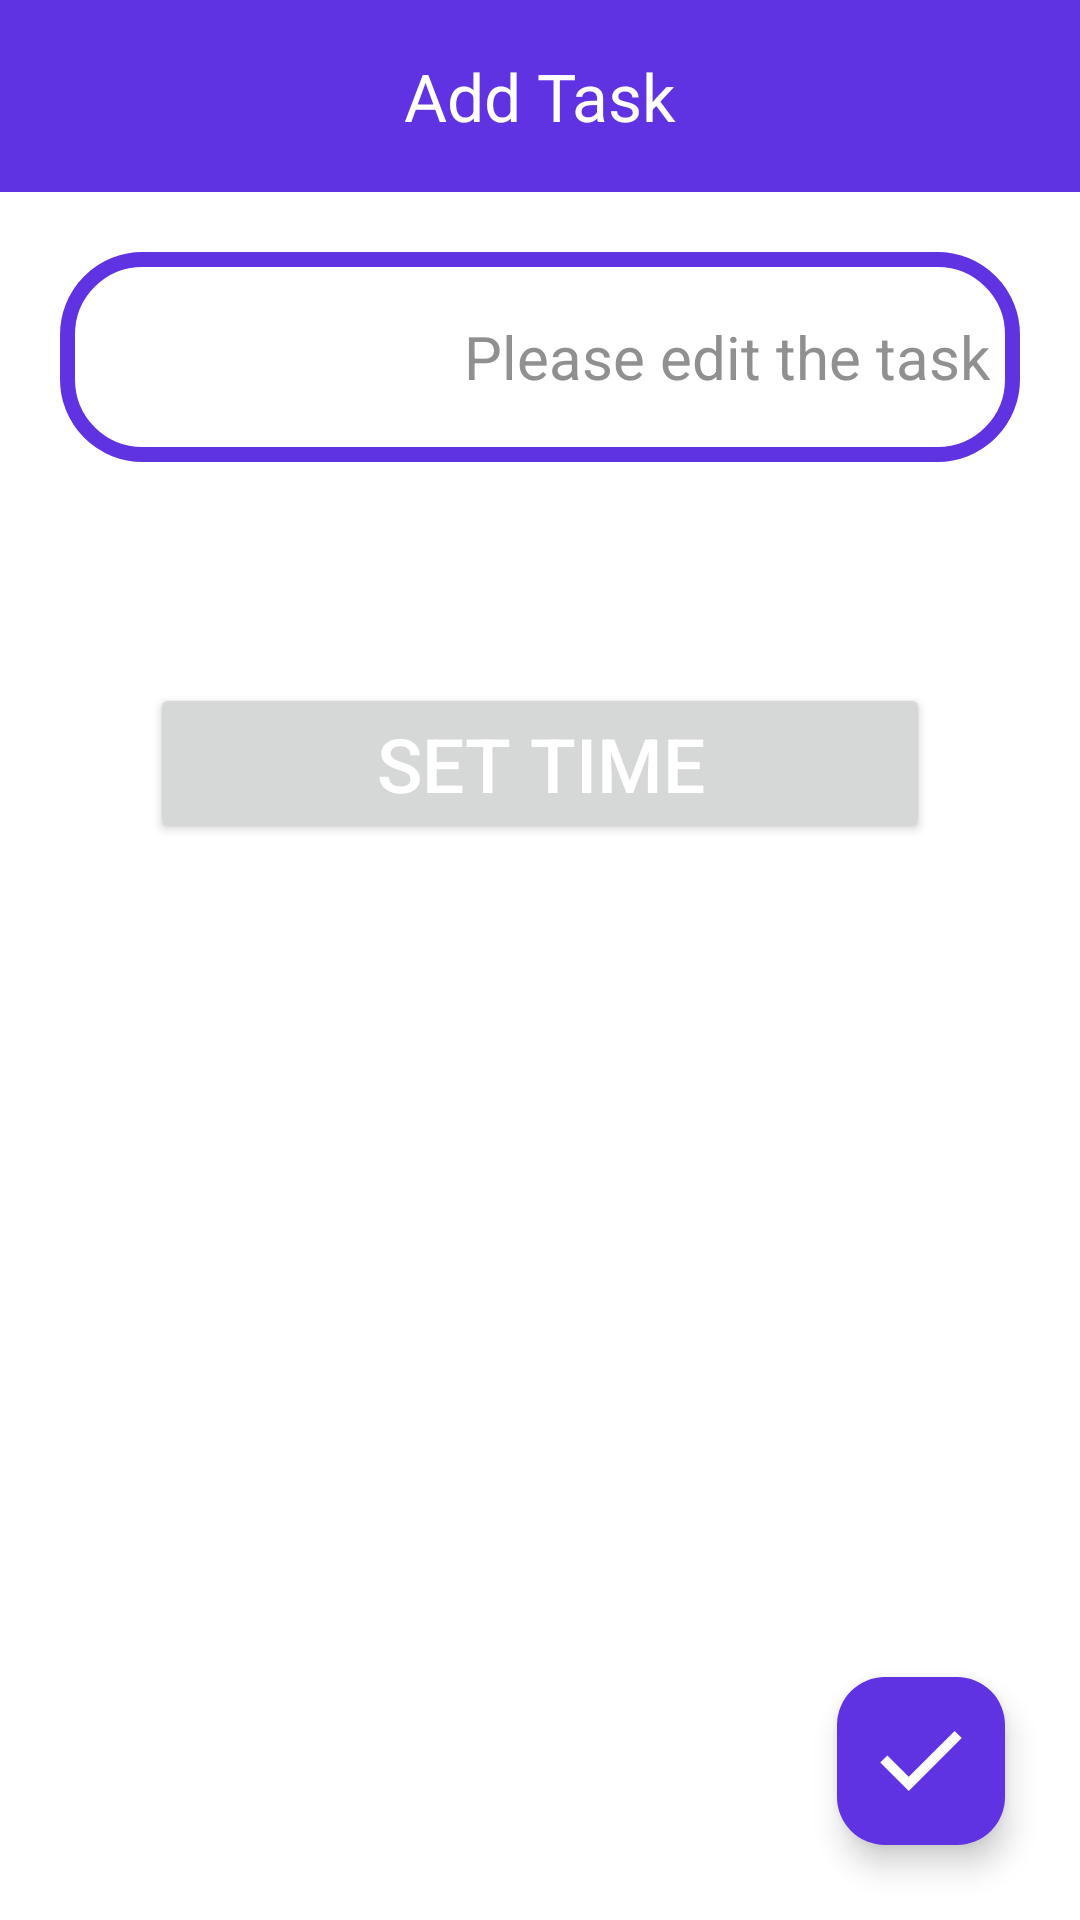

Icons on this 1080 × 1920 Android screen, each with the point to tap as point (x, y):
done: point (921, 1761)
